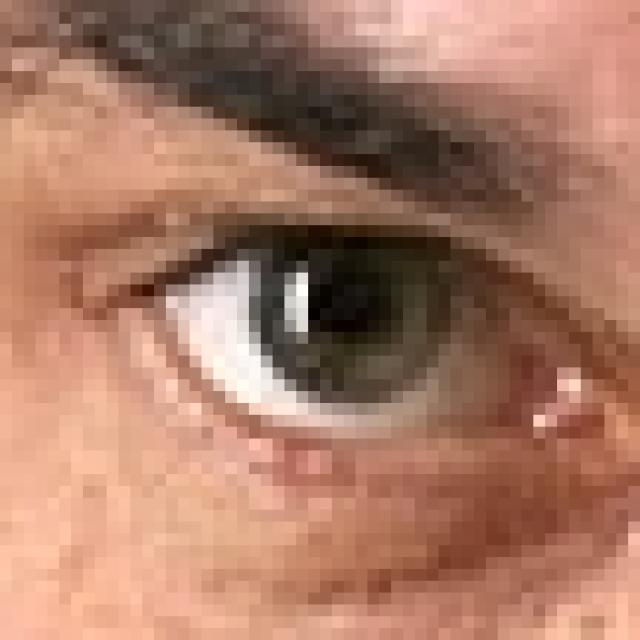eye: (61, 167, 640, 544)
gaze: (250, 229, 465, 406)
